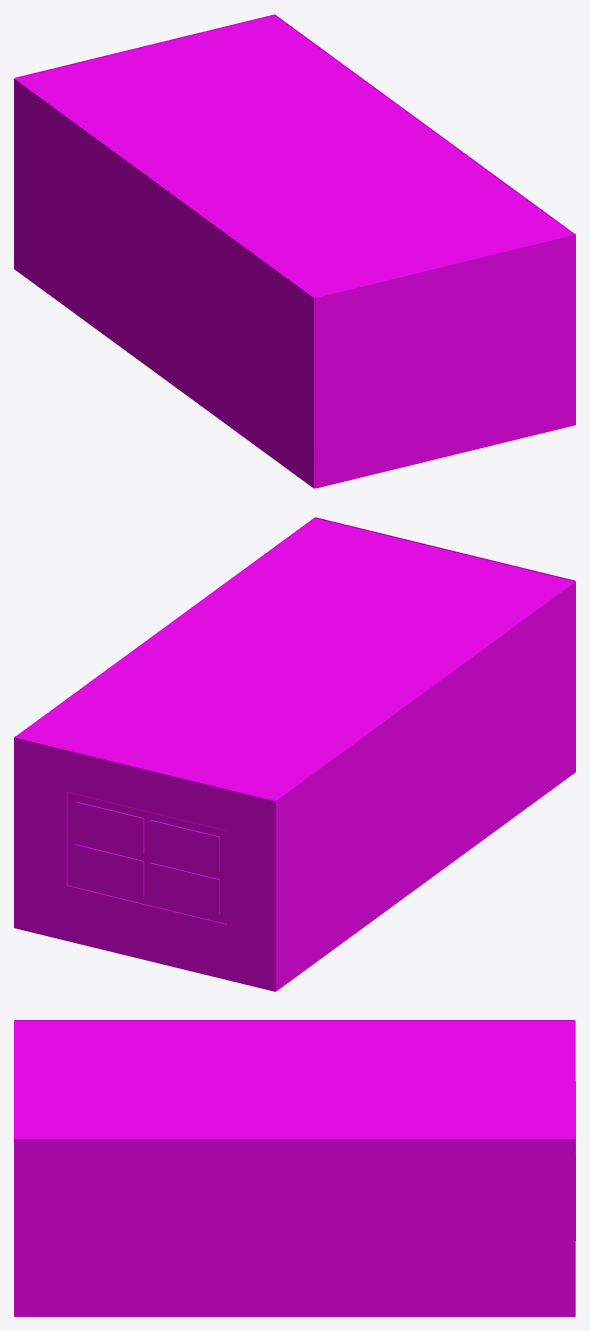
The picture shows the model from 3 angles, top to bottom: view 1: azimuth 30°, elevation 25°; view 2: azimuth 150°, elevation 25°; view 3: azimuth 270°, elevation 25°; orthographic projection. The views are drawn at different scales.
Parts seen in each view (by area): view 1: Uv_004; view 2: Uv_004; view 3: Uv_004.
Part boxes in pixels (box(x1,y1,x2,y2)): Uv_004: box(14, 14, 575, 488); Uv_004: box(14, 517, 575, 991); Uv_004: box(14, 1020, 575, 1316).
Bounding box in the file's own units: 502 × 350 × 1002.
